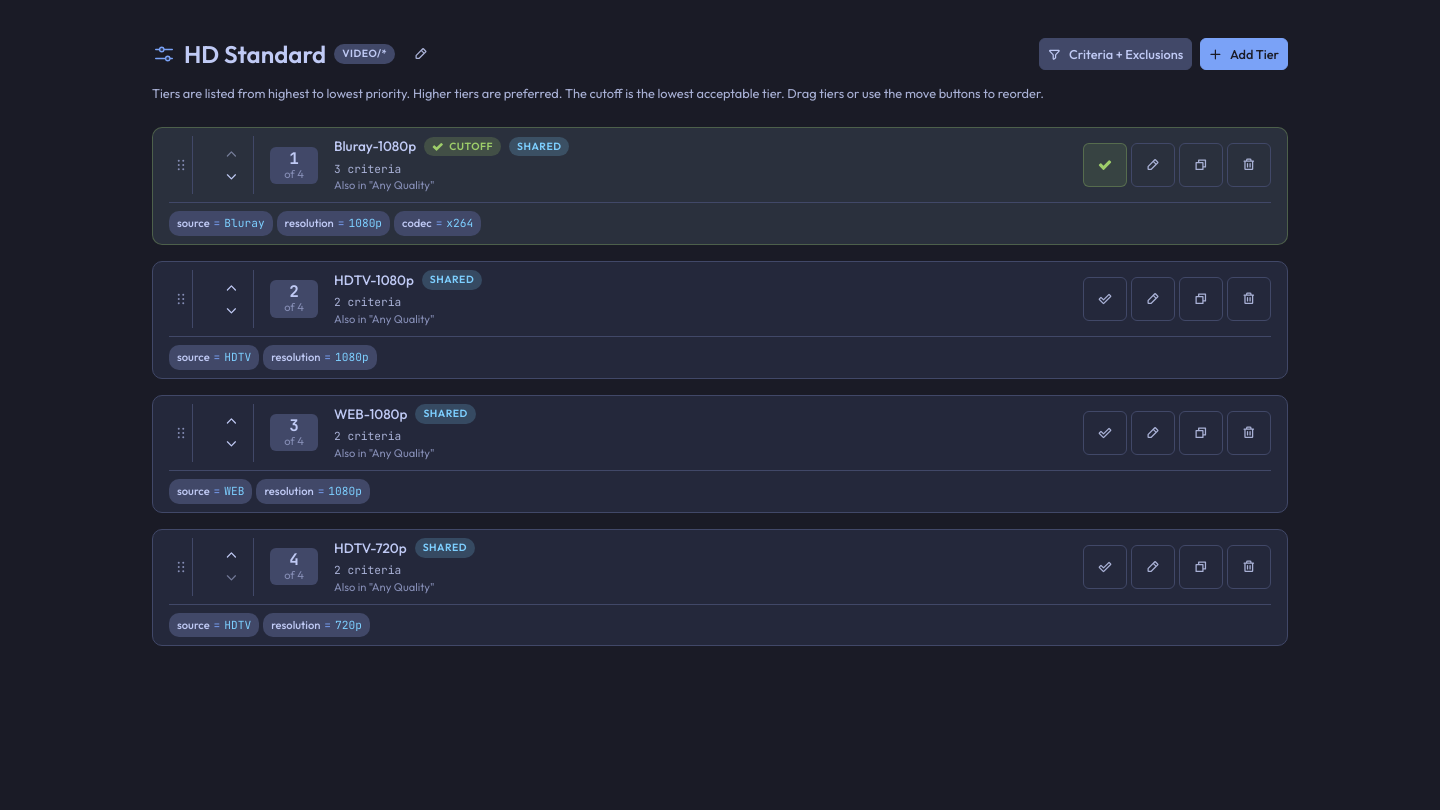
Test: TierListDetailPage delete confirmation › keeps the quality tier row when another list still ranks it
Expected: the list item that starts with "Bluray-1080p" is shown, left=152, top=127, right=1288, bottom=245
What coordinates should you click on to do the following:
click the button named "Delete Bluray-1080p"
I would click on:
 (1249, 165)
Its box is left=1227, top=143, right=1271, bottom=187.
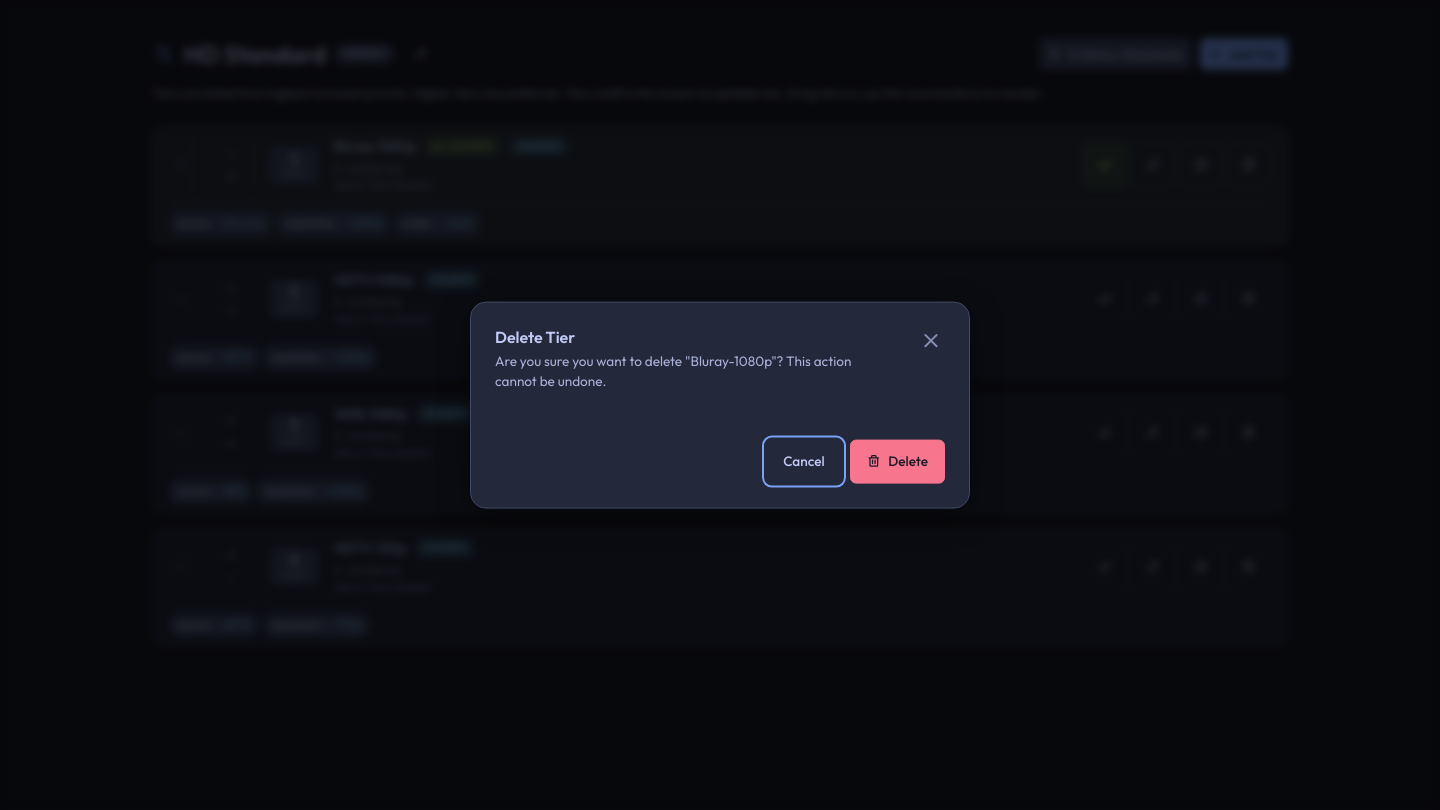
Now the heading "Delete Tier" is shown, box left=495, top=327, right=575, bottom=347
What coordinates should you click on to do the following:
click the button "Delete"
I would click on:
 (897, 461)
Its box is left=850, top=439, right=945, bottom=483.
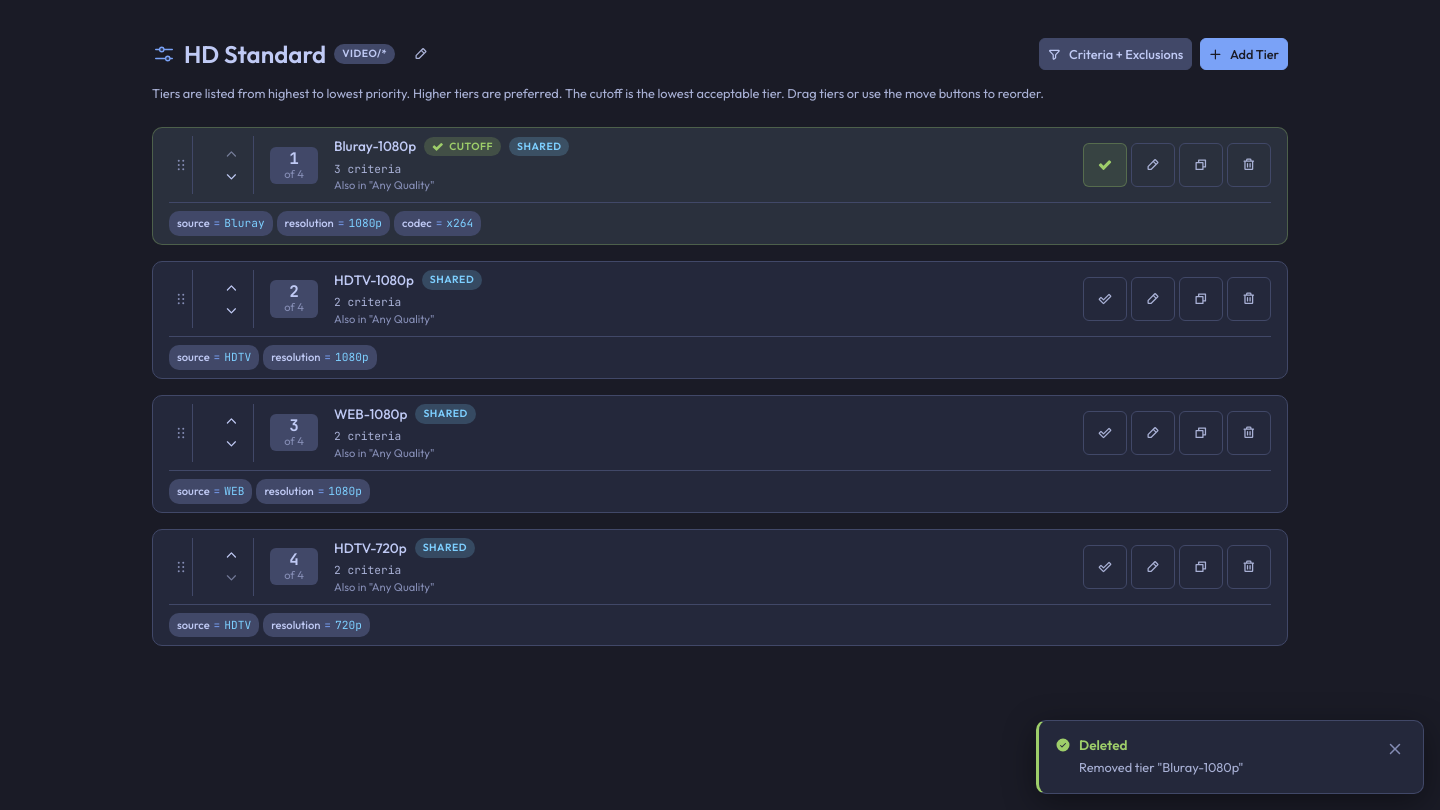
Now the text "Deleted" is shown, box left=1079, top=736, right=1128, bottom=754
